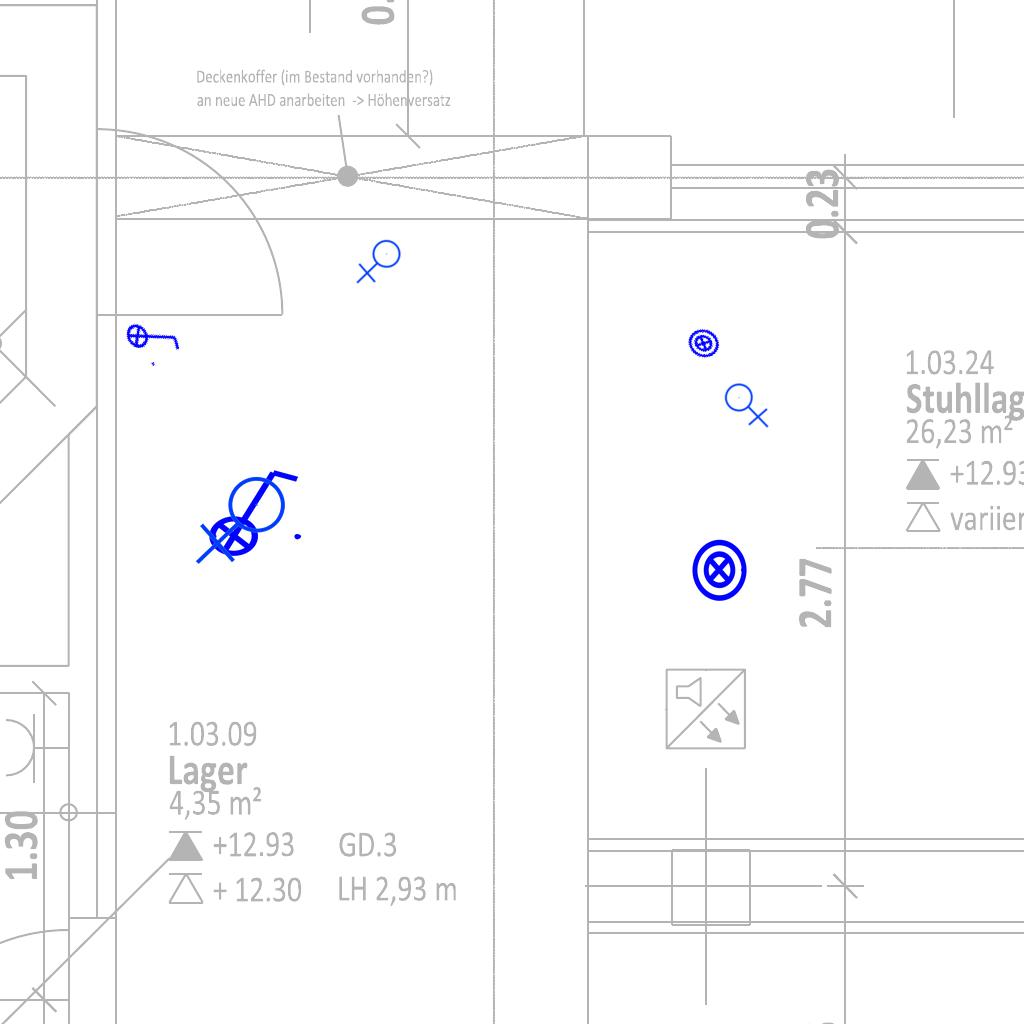Ausschalter_beleuchtet: (195, 462, 307, 558), (118, 300, 188, 374)
Elektroanschluss_allgemein_230V_Geraeteanschlussdose_230V: (195, 475, 294, 569), (724, 379, 771, 428), (356, 239, 405, 286)
Taster_beleuchtet: (686, 537, 752, 603), (681, 321, 726, 366)
